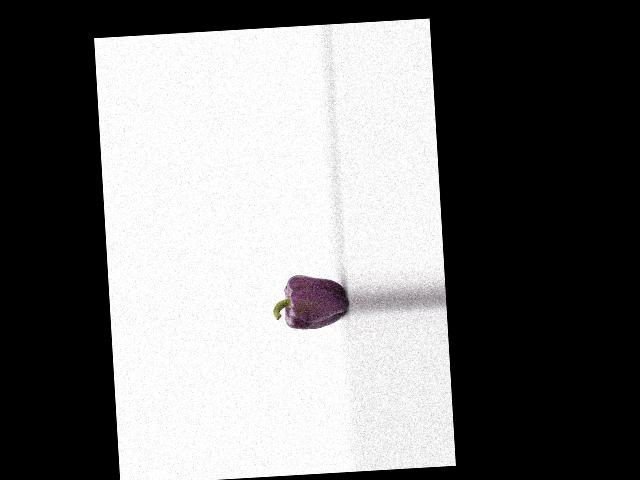bell_pepper: (272, 268, 348, 337)
